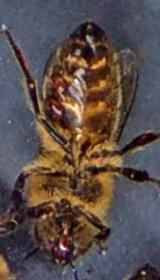varroa_mite: (34, 91, 74, 123), (46, 66, 68, 96)
